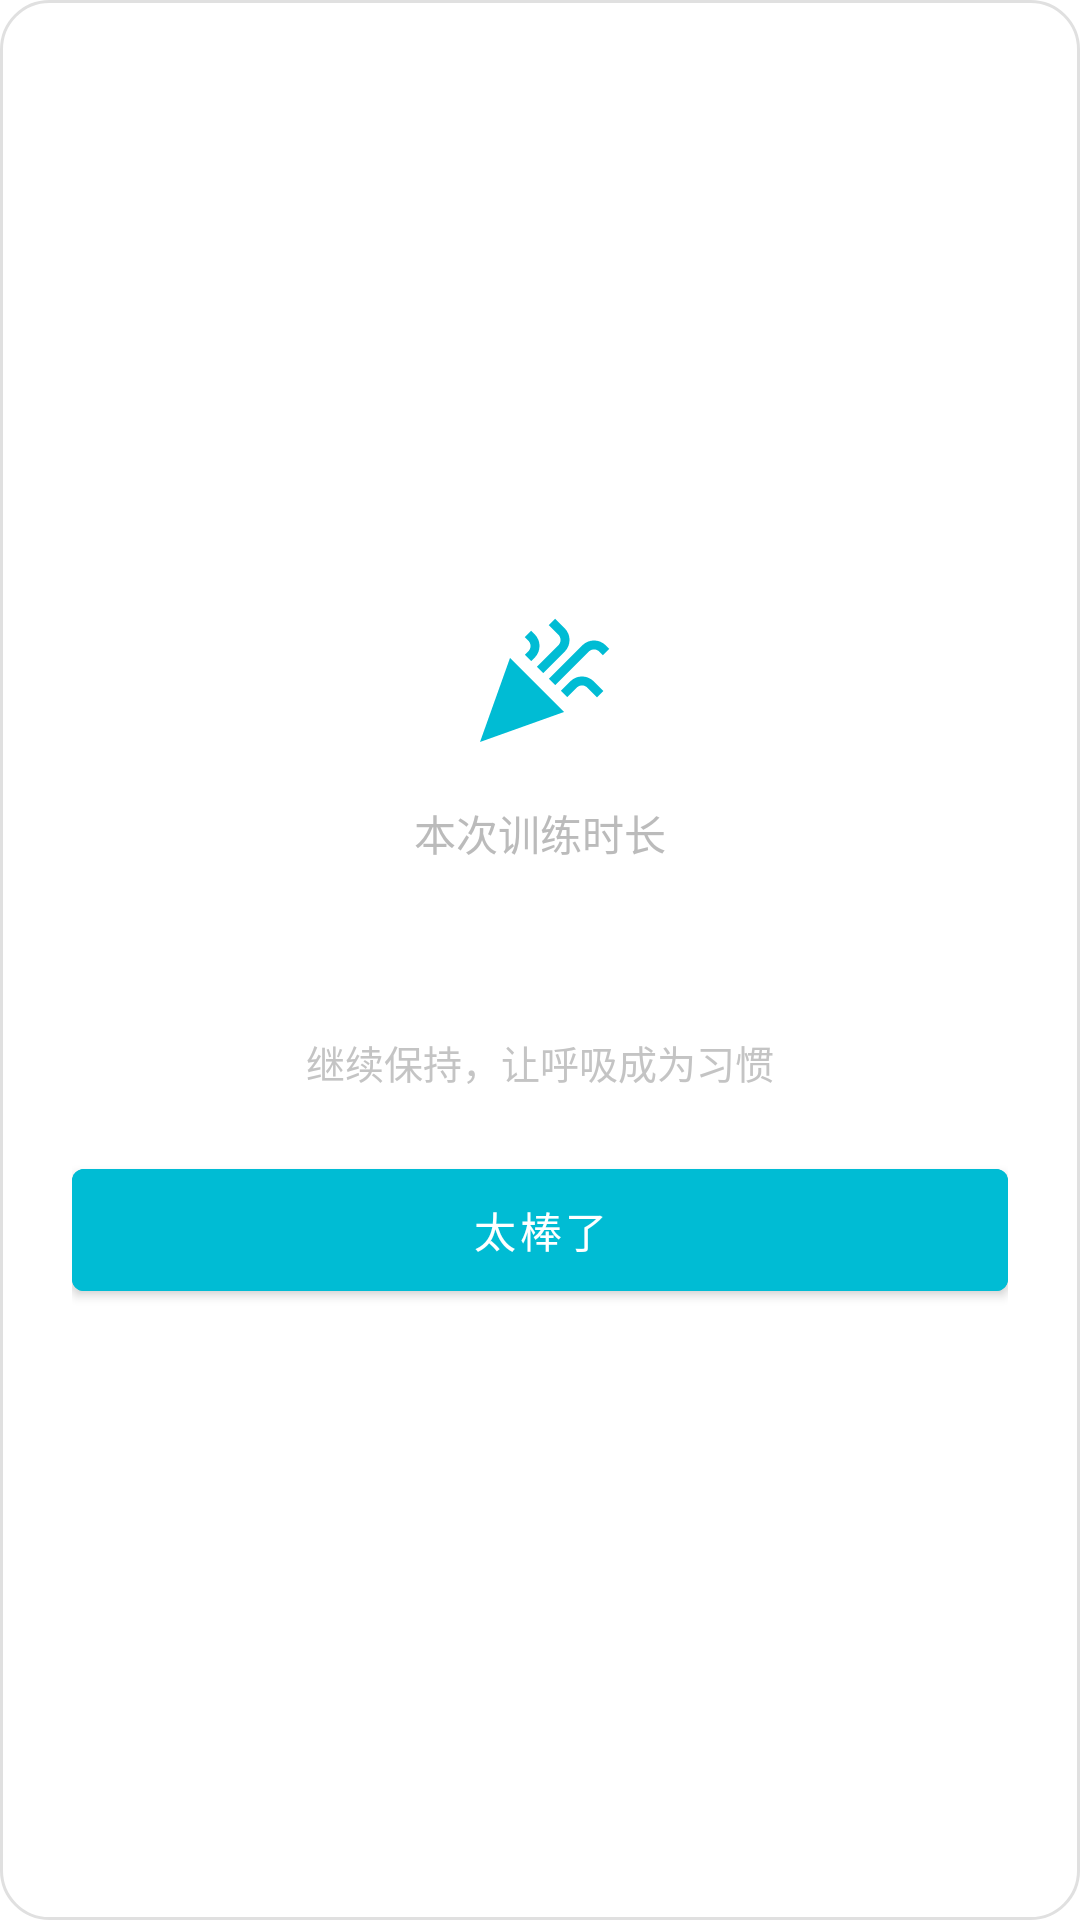

Icon bounding boxes for this 1080w x 1920h phone screenshot, format bbox(x1, y1, x2, y2):
celebration: bbox(480, 619, 609, 742)
